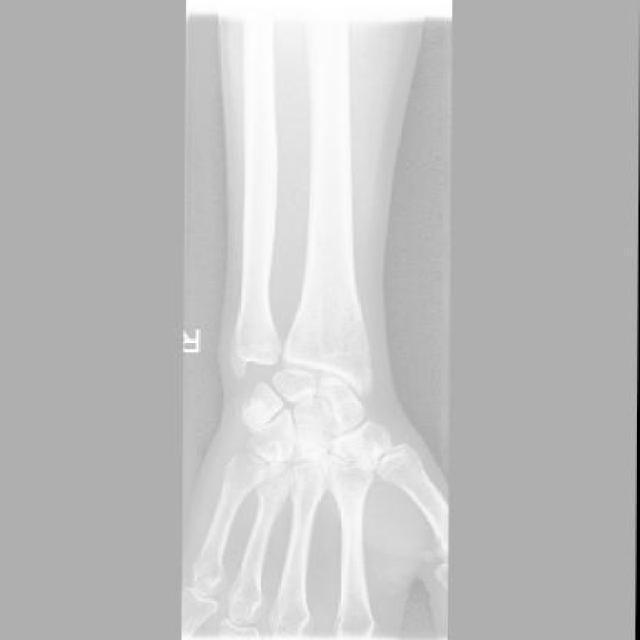Fracture: (298, 440, 331, 465)
